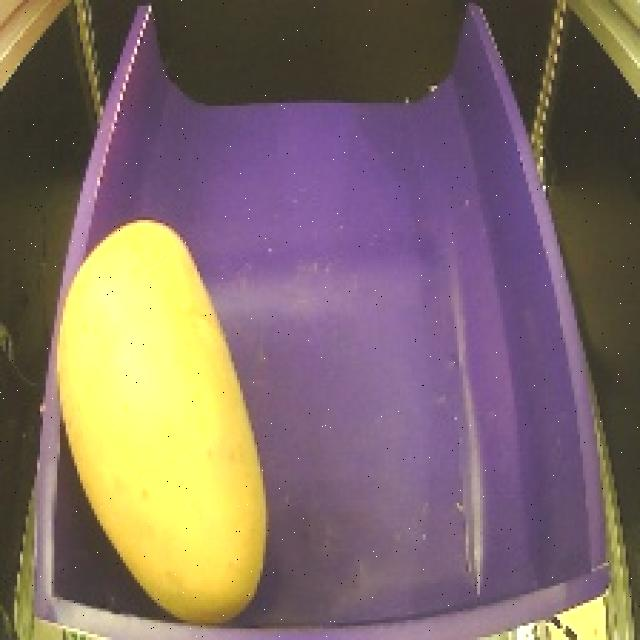full_potato: (39, 203, 278, 633)
